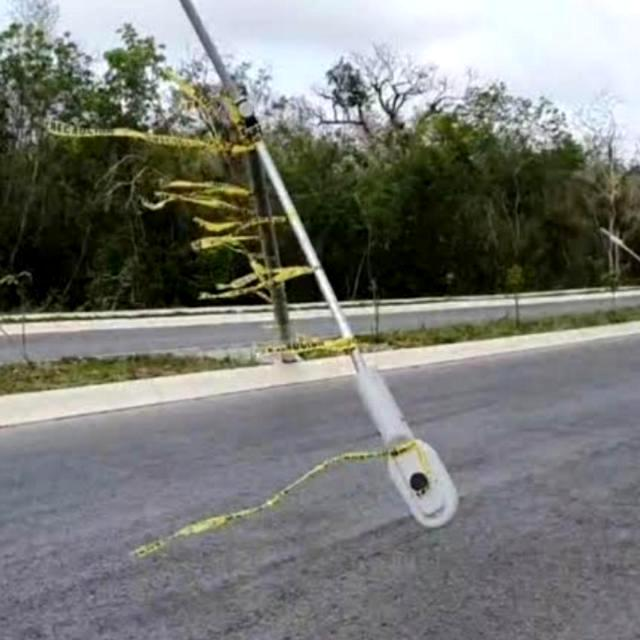Broken Pole: (227, 82, 475, 542)
